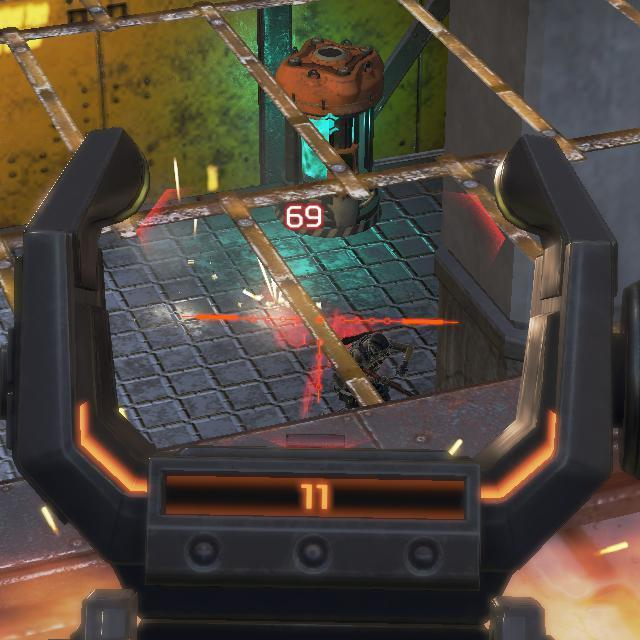avatar: (331, 326, 417, 410)
